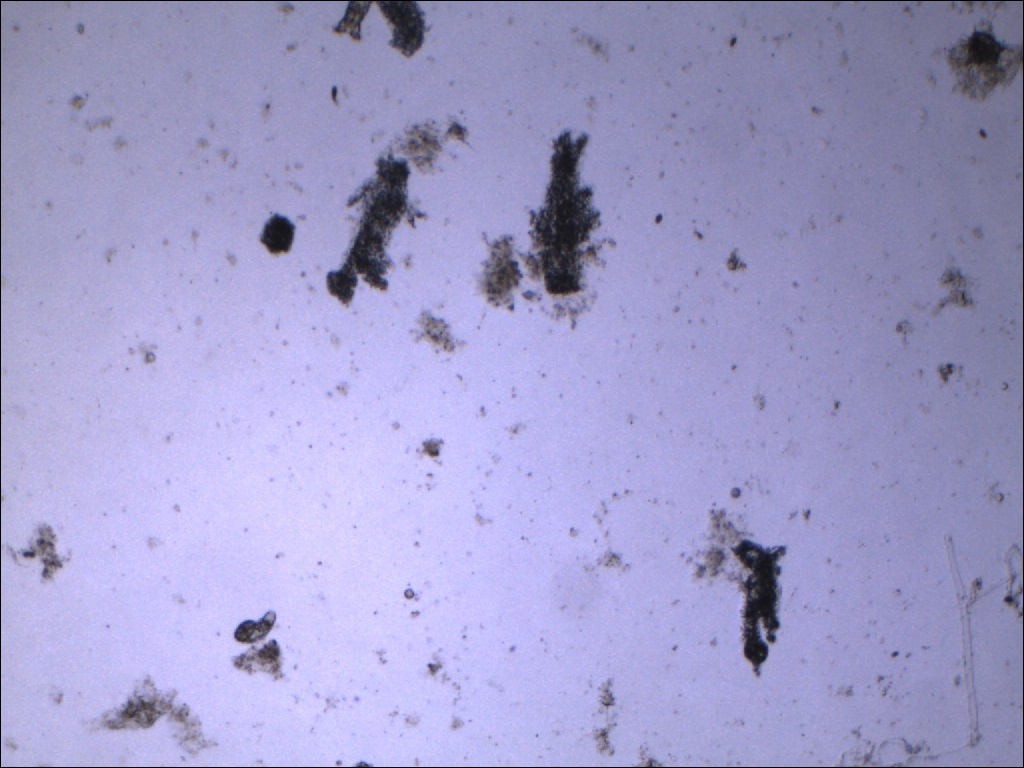amoeba: (318, 148, 433, 310), (527, 123, 610, 298), (726, 537, 796, 682)
